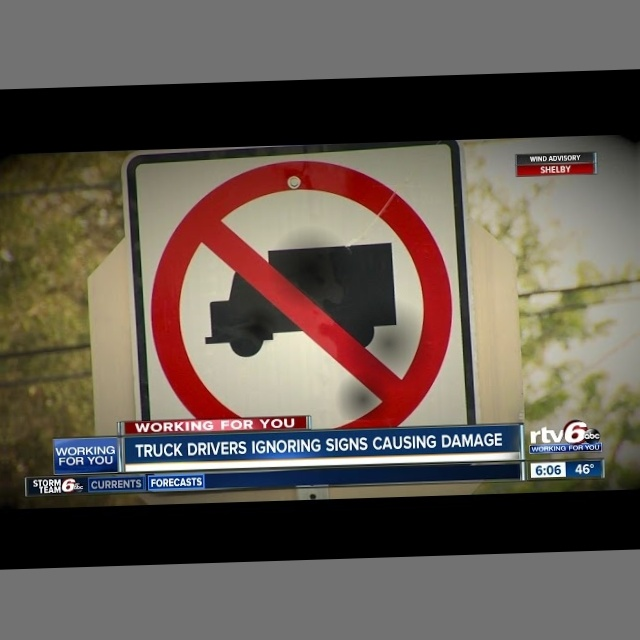Truck_Prohibited: (149, 162, 454, 420)
